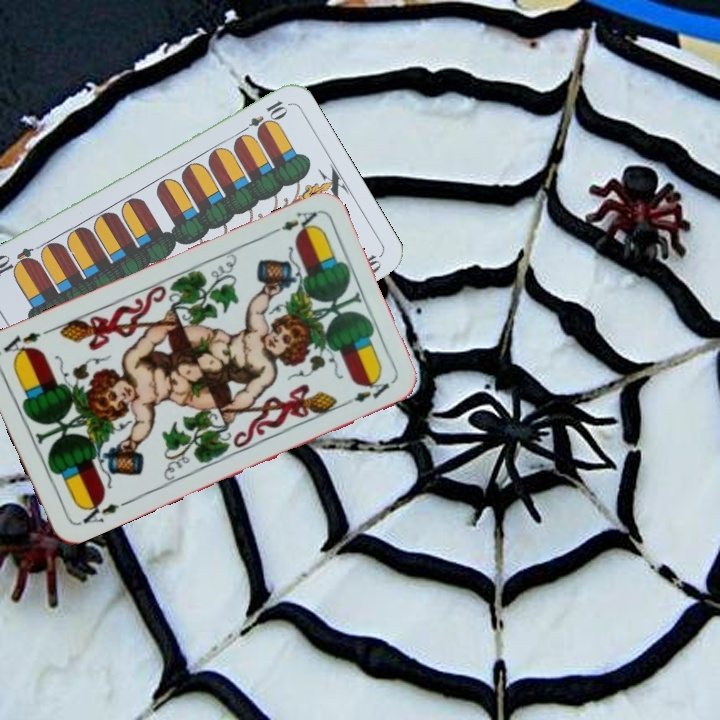E10: (235, 96, 290, 138)
EA: (264, 207, 320, 239), (77, 494, 122, 527)
